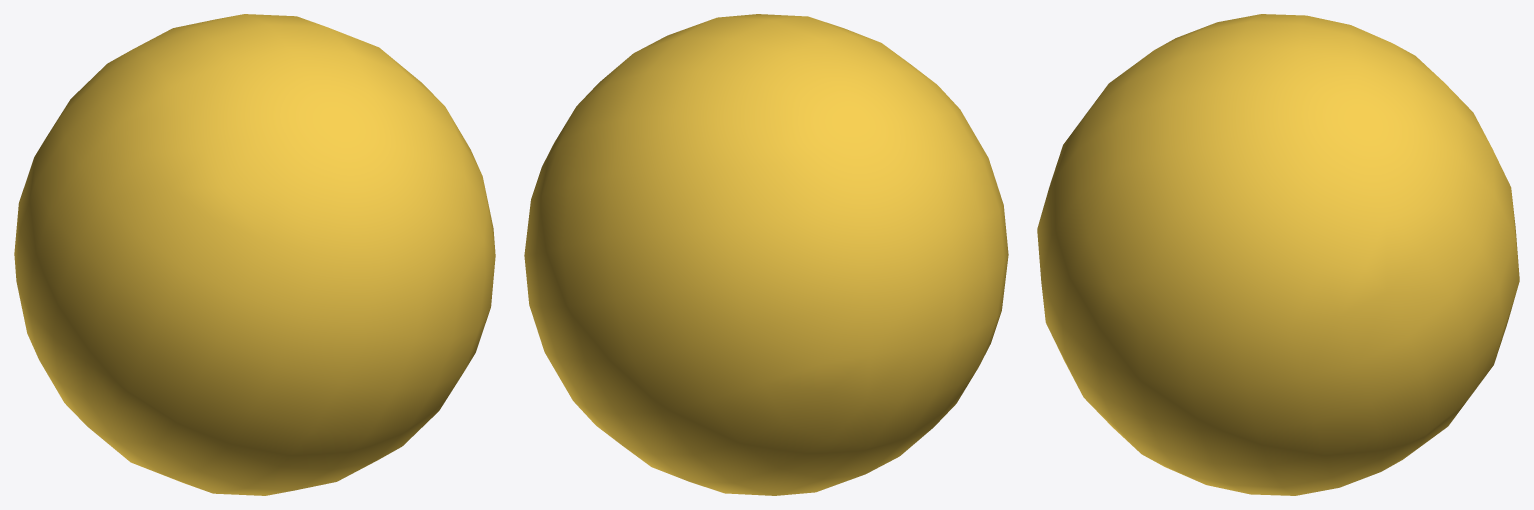
Rendered from beach-ball.glb.
3 renders of one model, left to right at view 1: azimuth 30°, elevation 25°; view 2: azimuth 150°, elevation 25°; view 3: azimuth 270°, elevation 25°, orthographic.
Visible parts, largest first — view 1: FtrBeachball_node3; view 2: FtrBeachball_node3; view 3: FtrBeachball_node3.
Boxes of the visible parts, x1=… form: FtrBeachball_node3: x1=14, y1=14, x2=495, y2=495; FtrBeachball_node3: x1=524, y1=14, x2=1008, y2=495; FtrBeachball_node3: x1=1037, y1=14, x2=1519, y2=495.
Size of the model in its own units: 0.5751 by 0.5756 by 0.5798.
